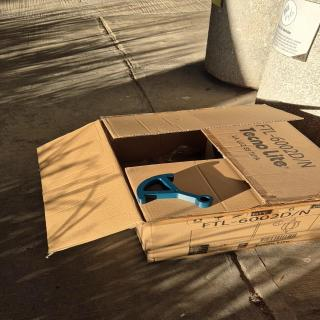haptic: (136, 173, 213, 209)
